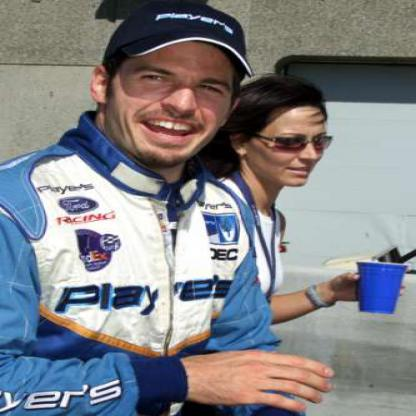face: (109, 5, 240, 173), (246, 93, 336, 191)
